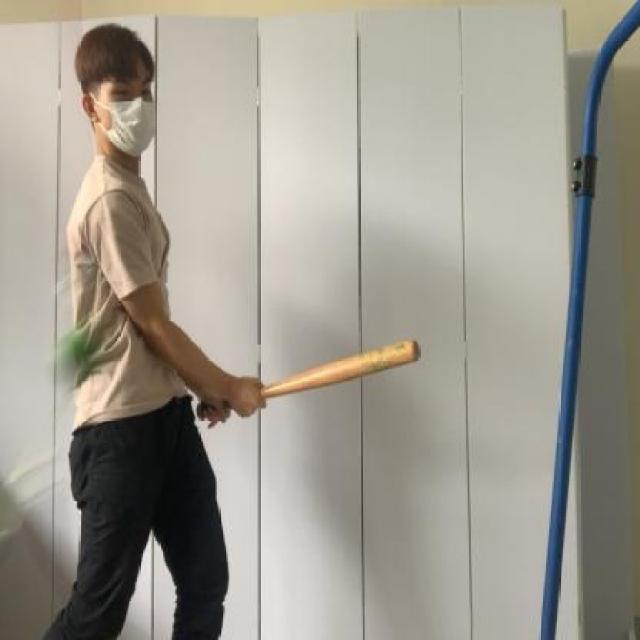baseball: (40, 317, 105, 388)
